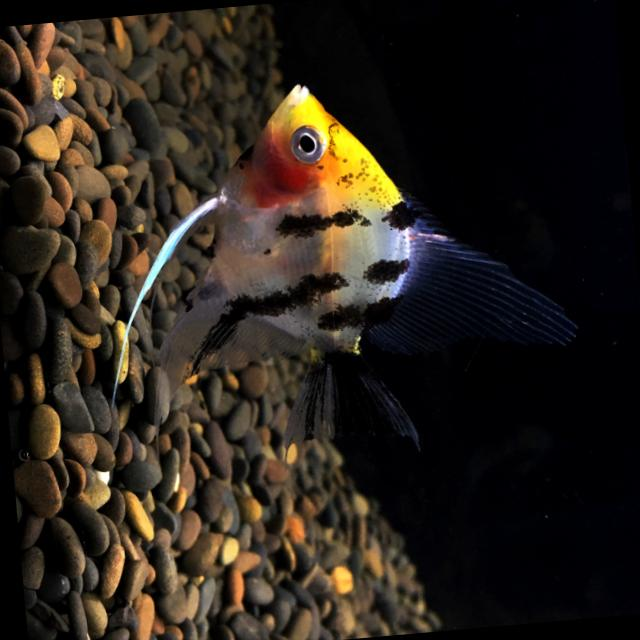AngelFish: (83, 59, 590, 474)
